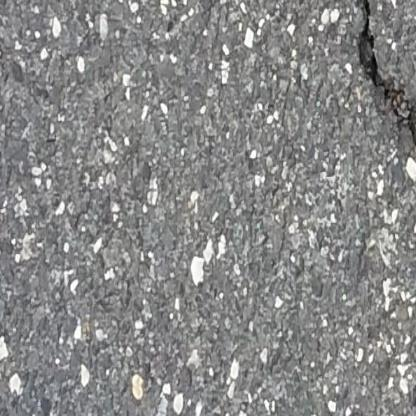Cracks: (333, 0, 416, 204)
